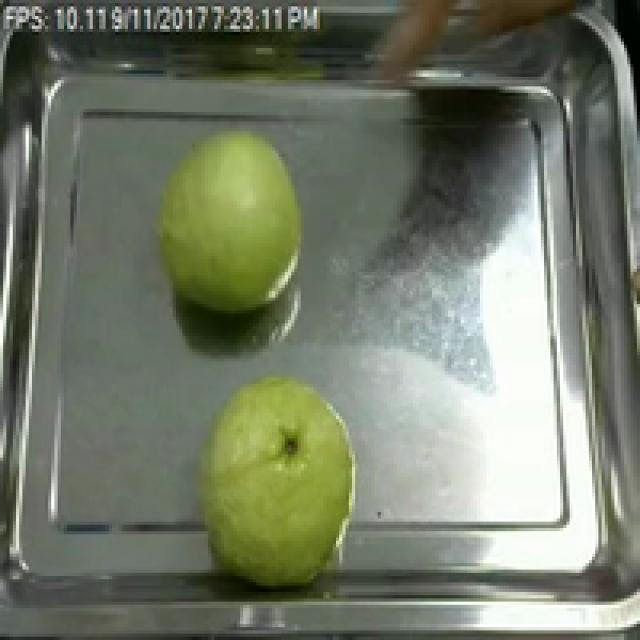Fruit: (182, 368, 368, 595), (147, 125, 314, 320)
